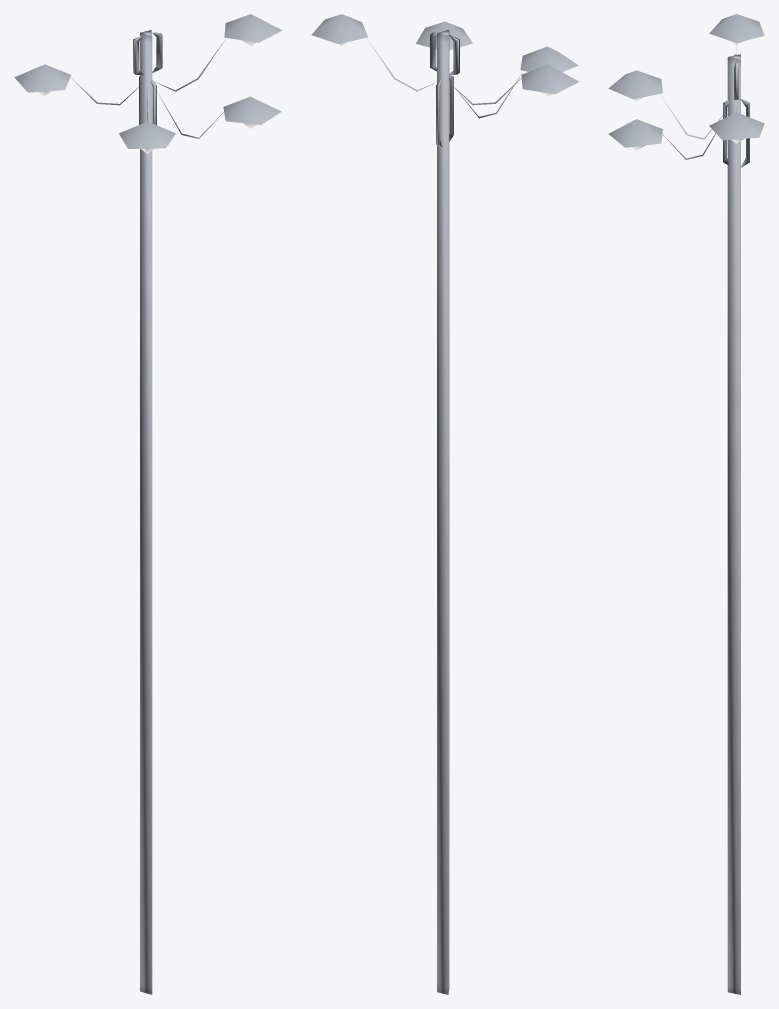
The model's file is frn_all_streetlamp_m_s2_l2.fbx.
The picture shows the model from 3 angles, left to right: view 1: azimuth 30°, elevation 25°; view 2: azimuth 150°, elevation 25°; view 3: azimuth 270°, elevation 25°; orthographic projection. The views are drawn at different scales.
Visible parts, largest first — view 1: mesh_node; view 2: mesh_node; view 3: mesh_node.
Boxes of the visible parts, x1=… form: mesh_node: x1=14, y1=14, x2=282, y2=994; mesh_node: x1=311, y1=14, x2=579, y2=994; mesh_node: x1=608, y1=14, x2=764, y2=994.
Size of the model in its own units: 8.33 by 29.93 by 4.54.
1 material, 1 textured.
